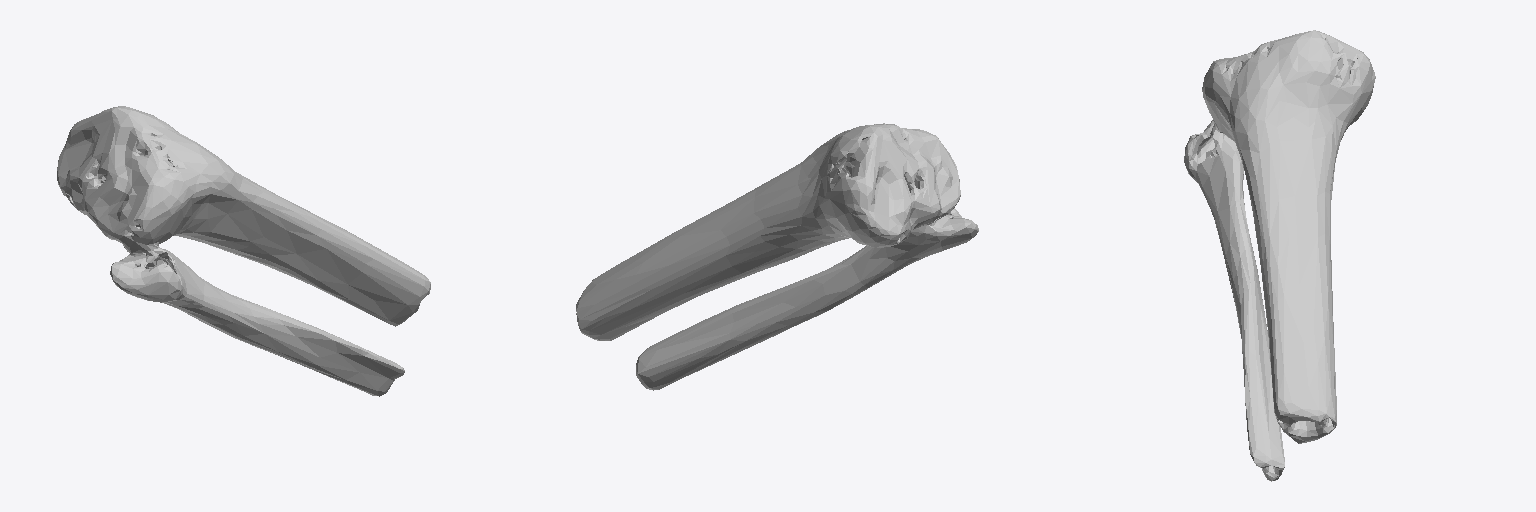
File: TibPerNonCut.obj
The picture shows the model from 3 angles: view 1: azimuth 30°, elevation 25°; view 2: azimuth 150°, elevation 25°; view 3: azimuth 270°, elevation 25°; orthographic projection.
Visible parts, largest first — view 1: TibPerNonCut_TibPerNonCut.001; view 2: TibPerNonCut_TibPerNonCut.001; view 3: TibPerNonCut_TibPerNonCut.001.
Boxes of the visible parts, box(x1,y1,x2,y2) form: TibPerNonCut_TibPerNonCut.001: box(57, 106, 430, 396); TibPerNonCut_TibPerNonCut.001: box(576, 123, 978, 390); TibPerNonCut_TibPerNonCut.001: box(1184, 30, 1375, 481).
Size of the model in its own units: 67.96 by 60.91 by 31.91.